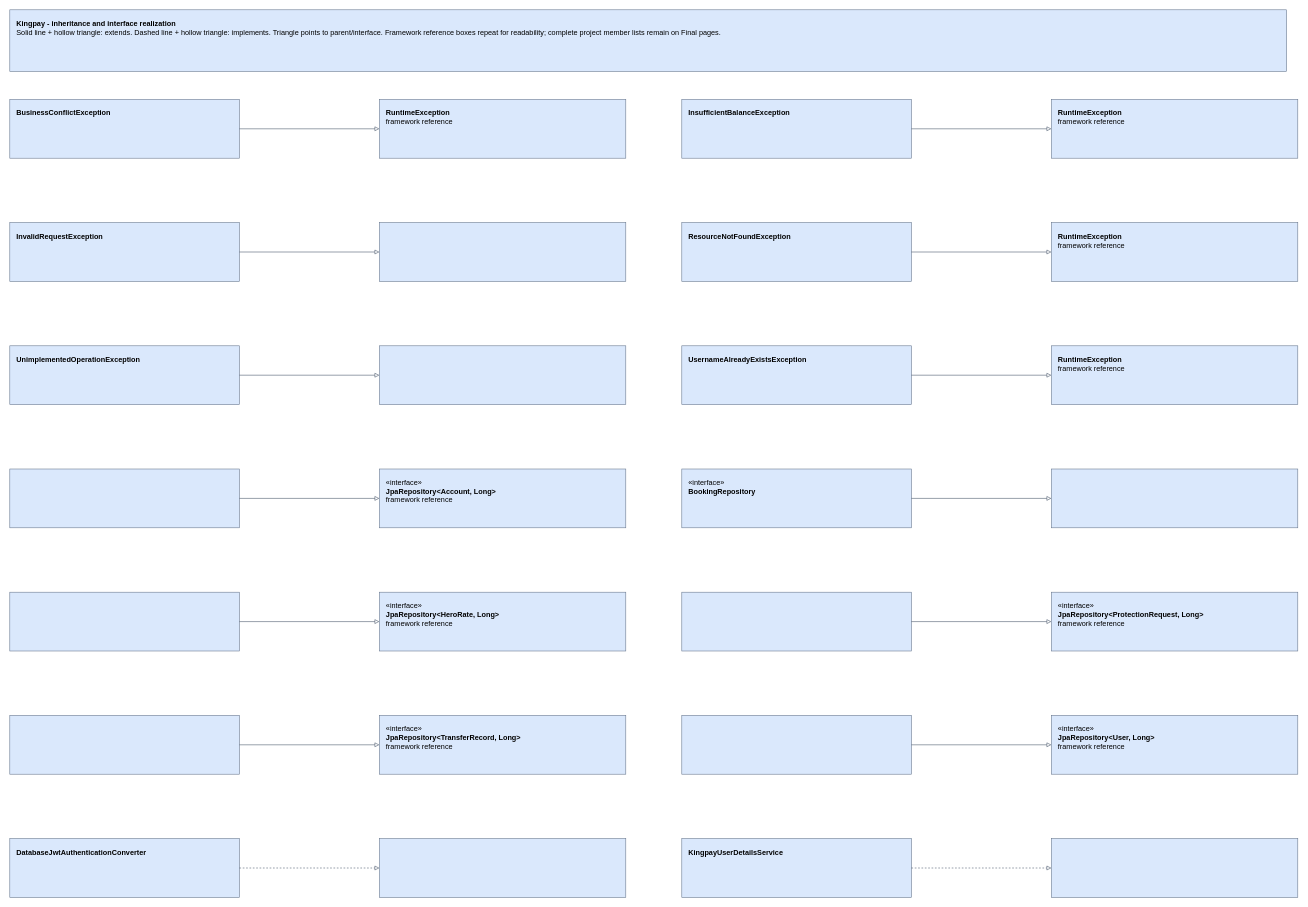
The diagram is 1308 pixels wide and 907 high, and some of its shapes have lost their labels. The centre of each missing label's shape, as x and y in pixels:
IllegalArgumentException framework reference: the point at 502,251
UnsupportedOperationException framework reference: the point at 502,375
«interface» AccountRepository: the point at 124,498
«interface» Converter<Jwt, AbstractAuthenticationToken> framework reference: the point at 502,867
«interface» HeroRateRepository: the point at 124,621
«interface» JpaRepository<Booking, Long> framework reference: the point at 1174,498
«interface» ProtectionRequestRepository: the point at 796,621
«interface» TransferRecordRepository: the point at 124,744
«interface» UserDetailsService framework reference: the point at 1174,867
«interface» UserRepository: the point at 796,744
